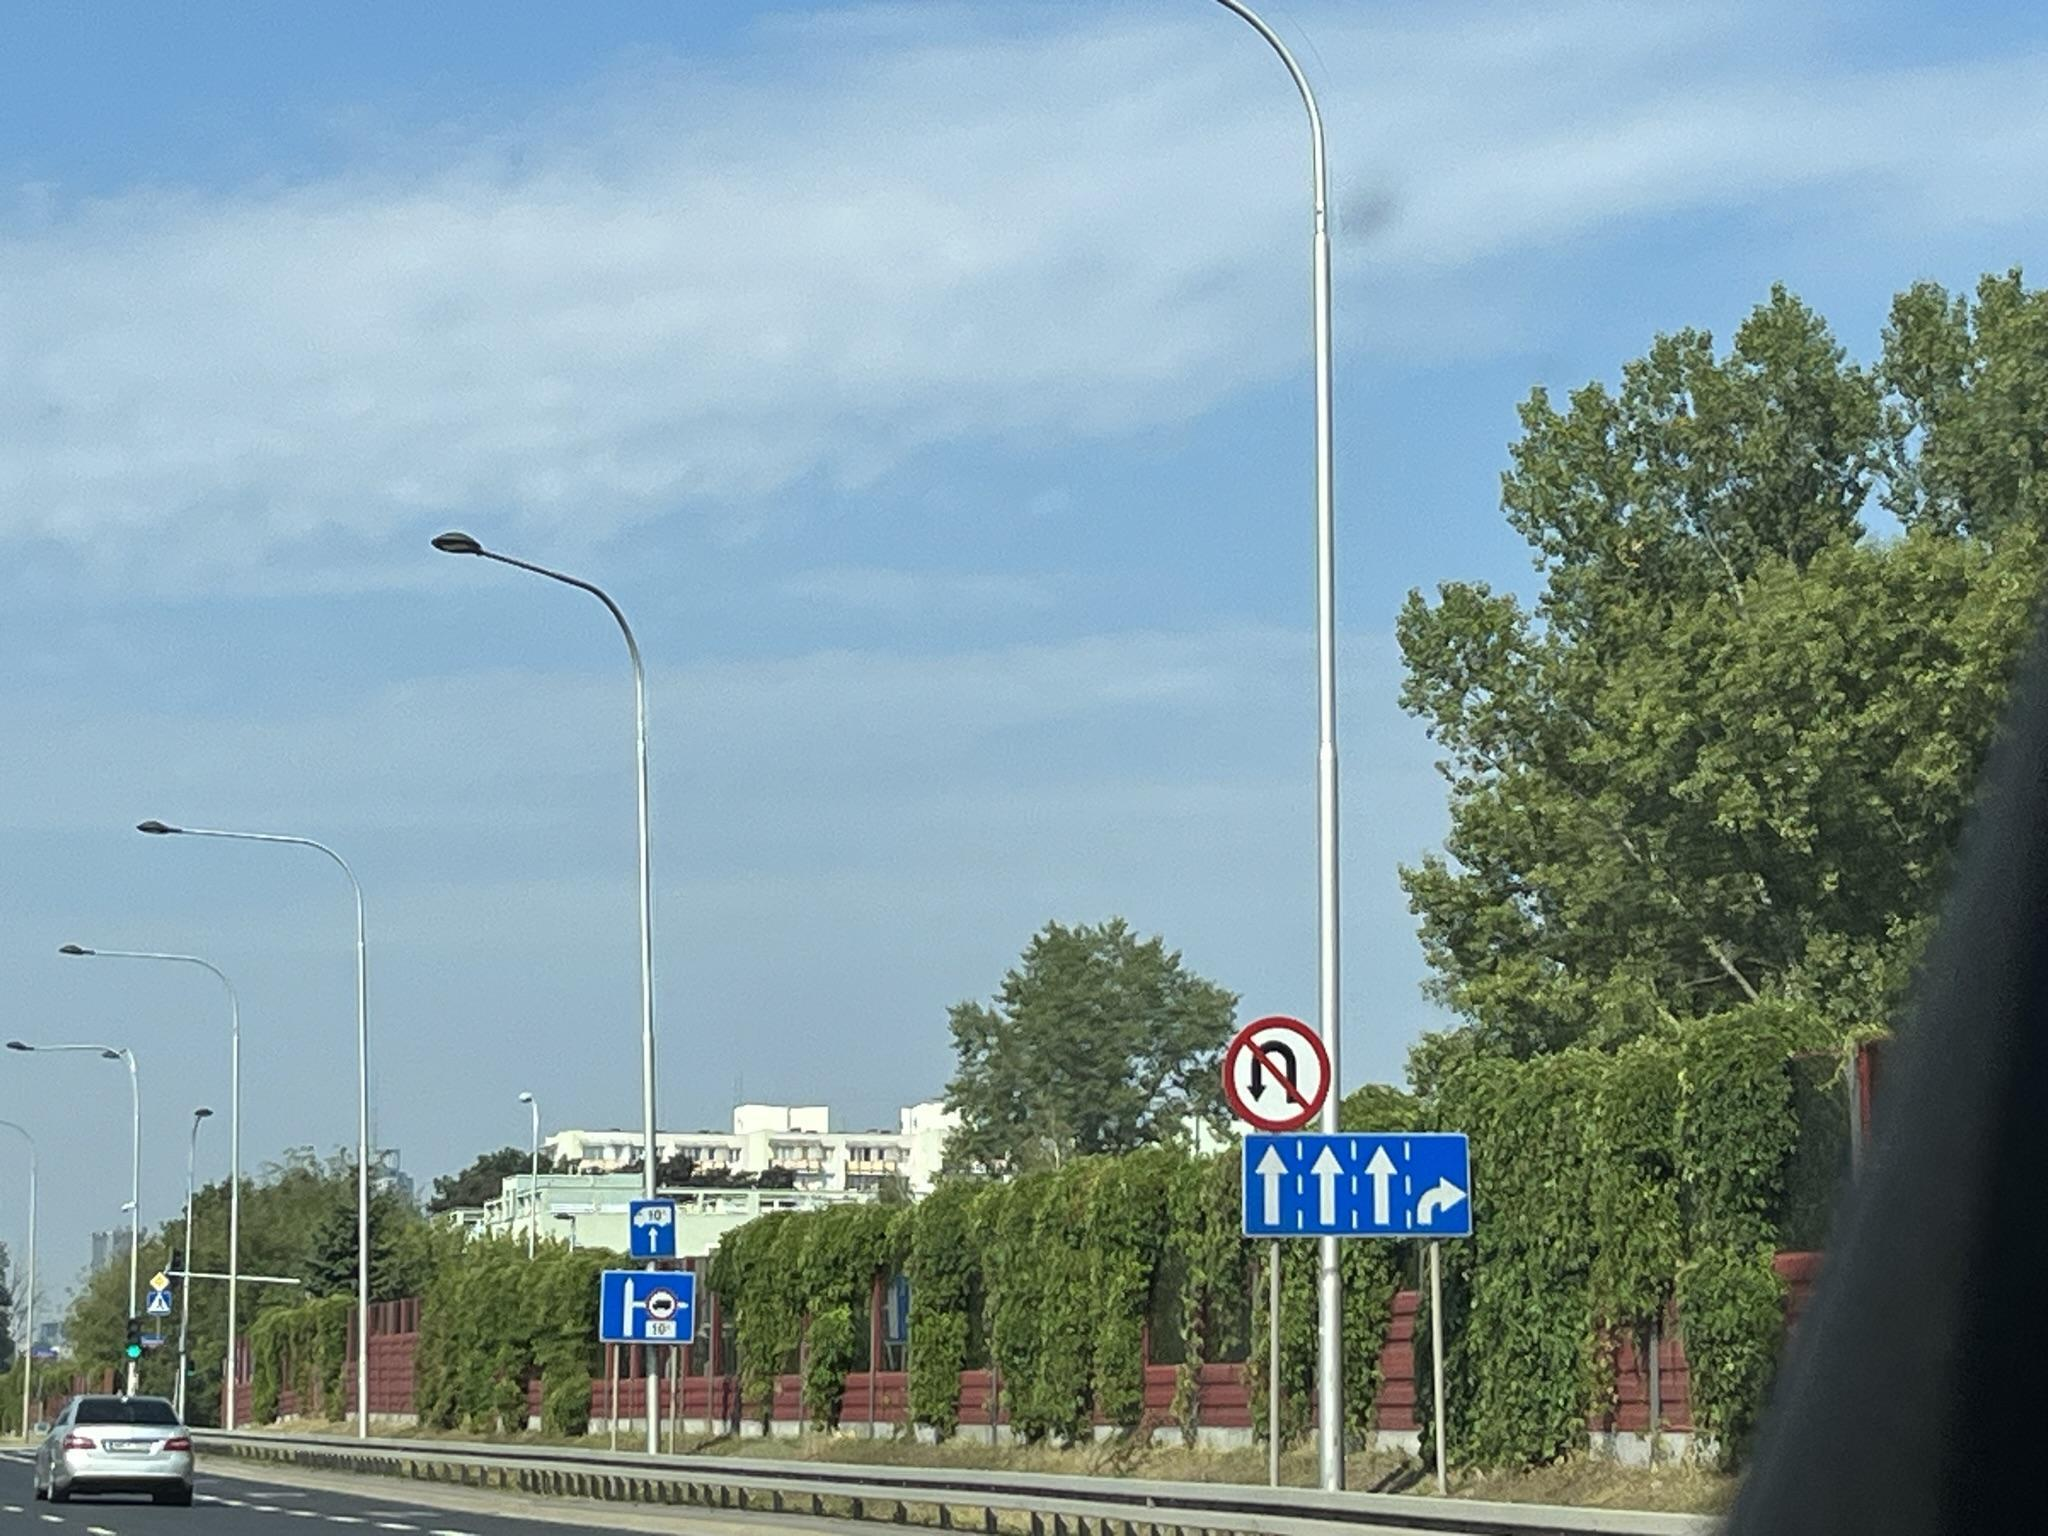information: (635, 1200, 679, 1257), (148, 1291, 173, 1313), (150, 1273, 169, 1291)
other: (1243, 1134, 1474, 1236), (600, 1268, 697, 1341)
prohibitory: (1222, 1013, 1330, 1131)
